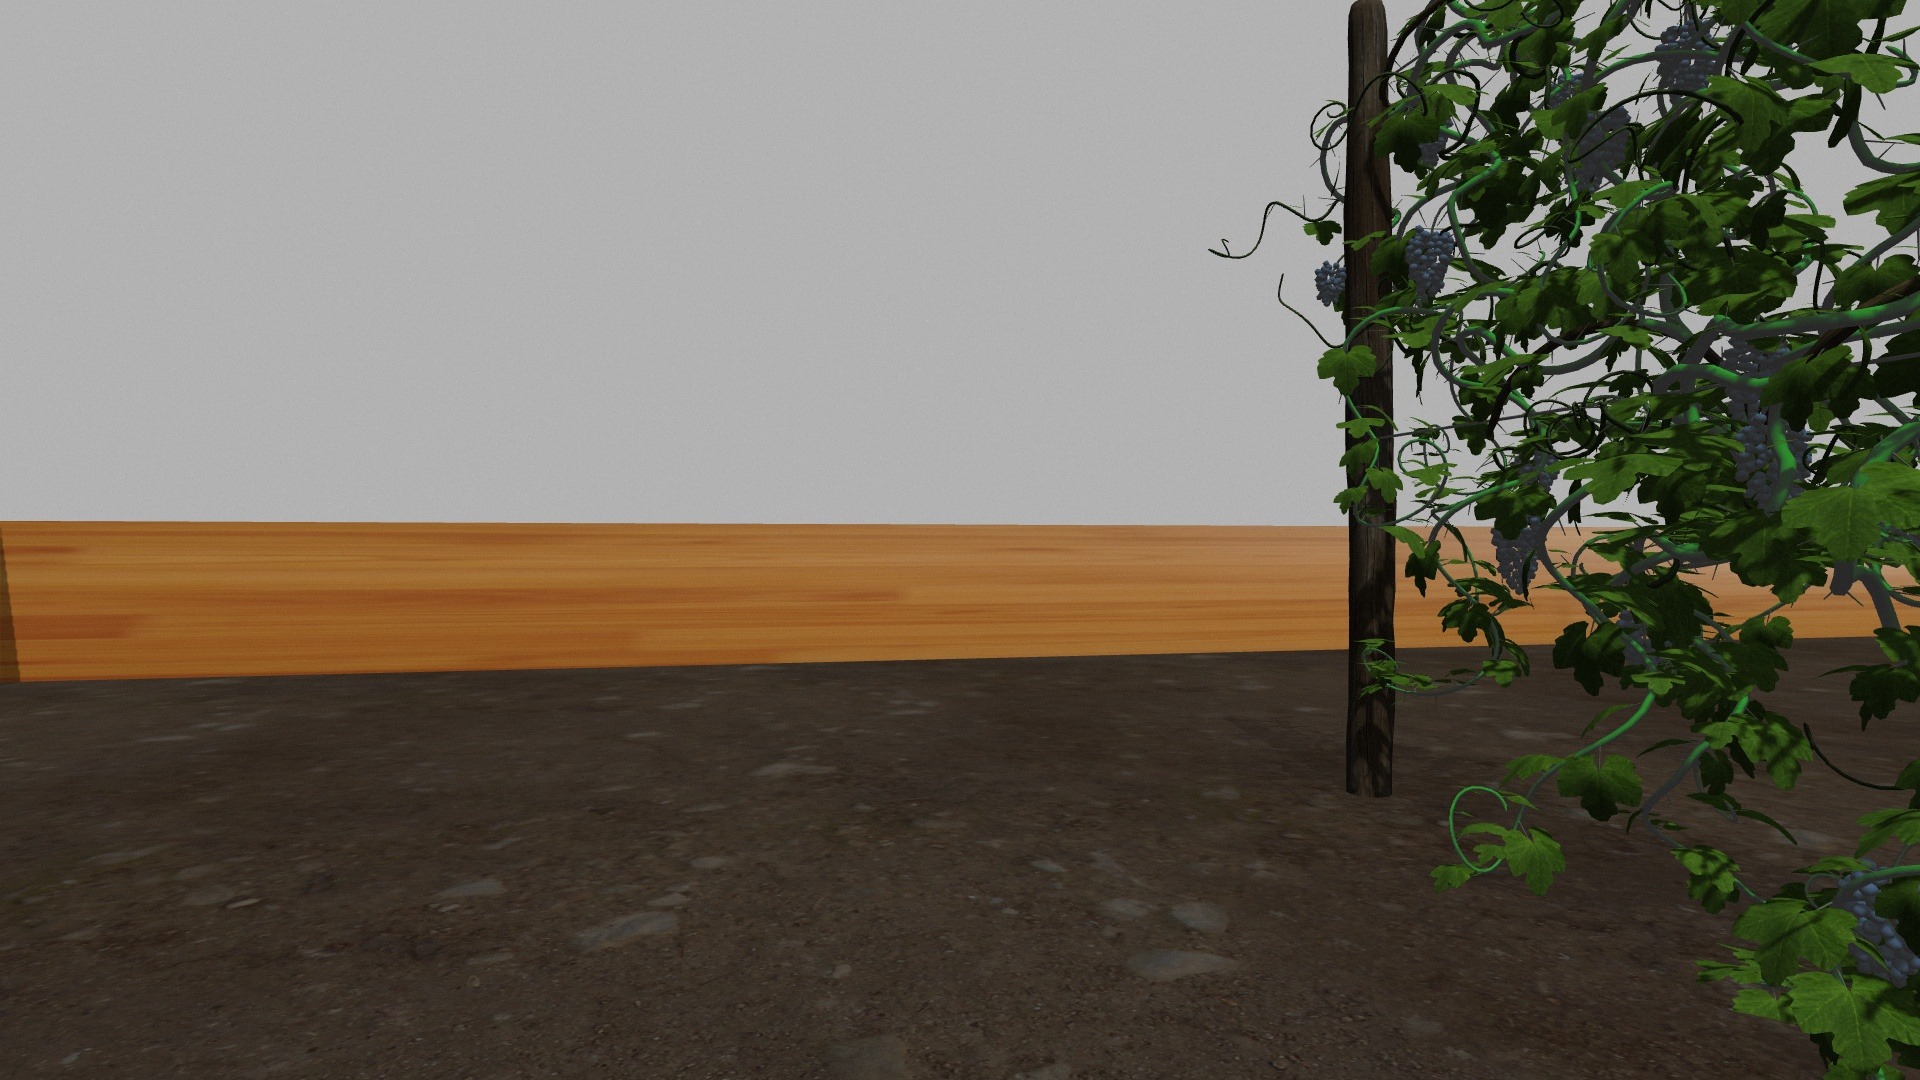grape: (1735, 413, 1812, 518), (1654, 22, 1720, 102), (1575, 105, 1635, 187), (1491, 506, 1545, 593), (1404, 225, 1455, 306), (1315, 262, 1345, 307)
